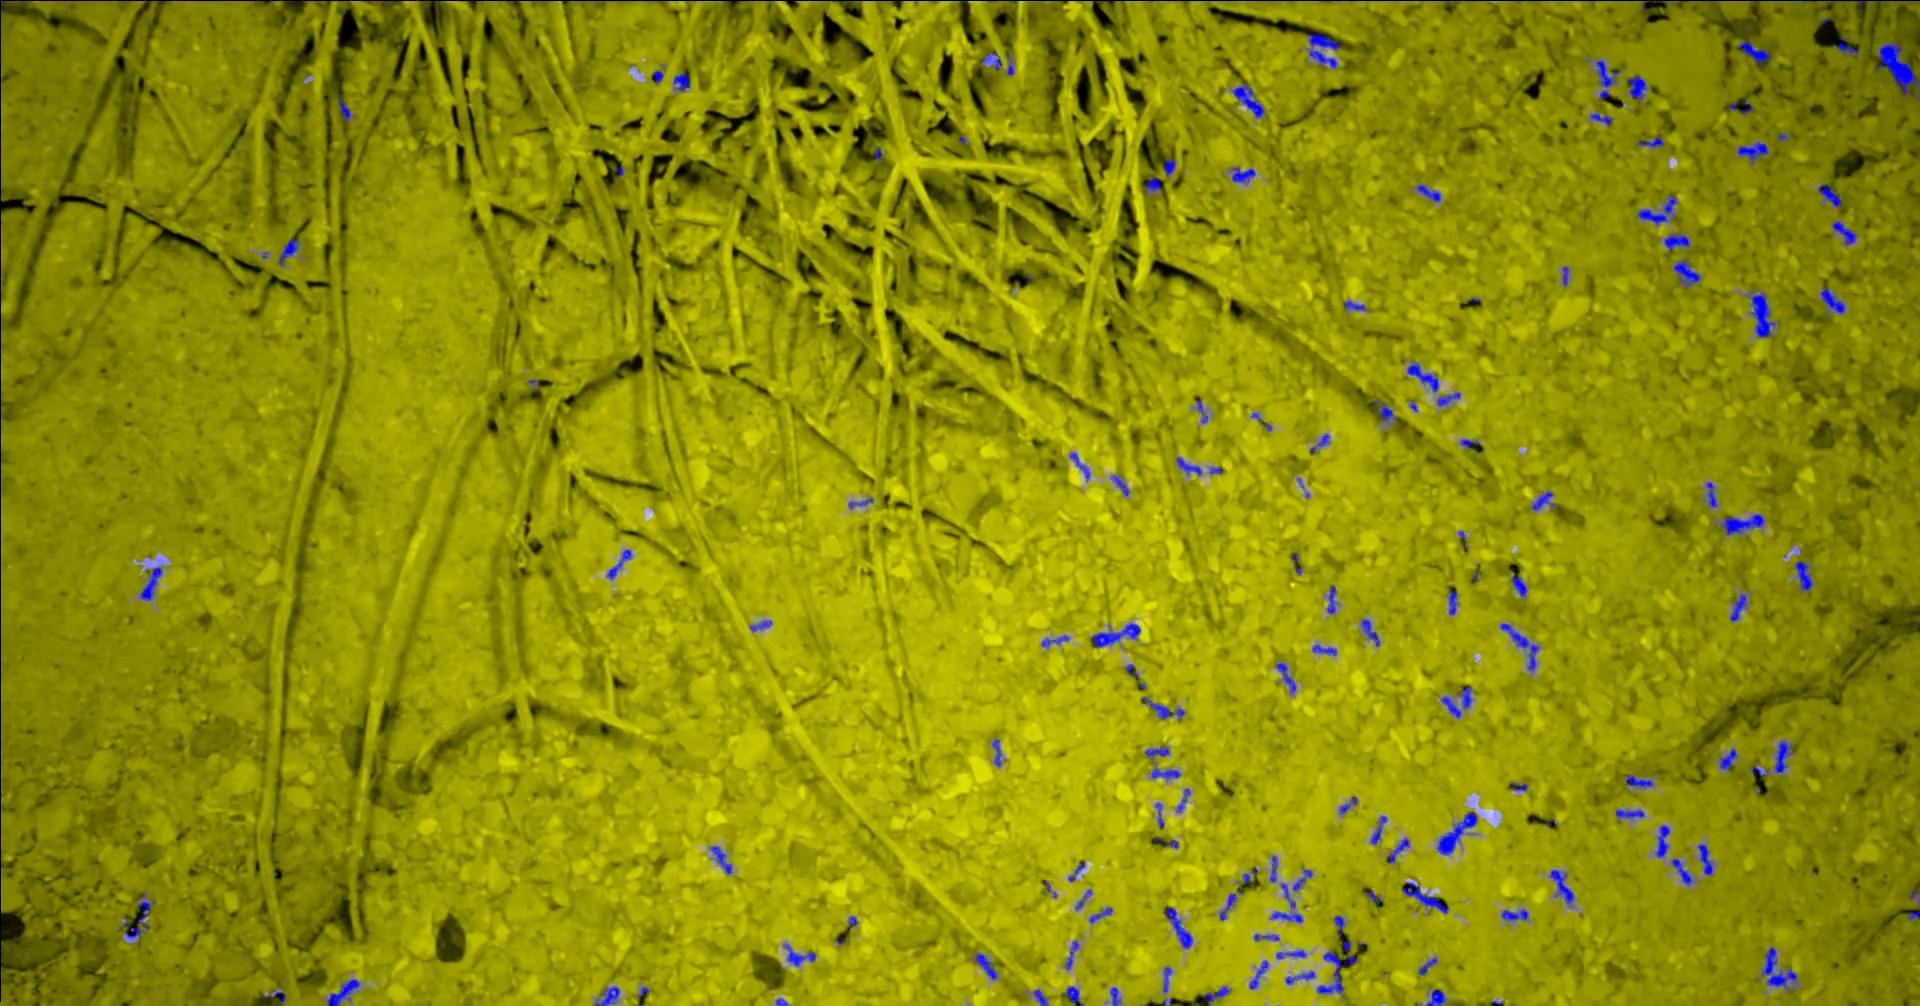ant: (1876, 41, 1919, 98), (1498, 622, 1538, 671), (1316, 951, 1357, 993), (1436, 812, 1477, 854), (119, 892, 154, 937), (1761, 946, 1796, 989), (1401, 882, 1448, 912), (1280, 869, 1312, 908), (1636, 194, 1676, 224), (1230, 83, 1263, 118), (1092, 622, 1140, 647), (1164, 907, 1192, 948), (1307, 32, 1338, 67), (1750, 293, 1775, 338), (1595, 58, 1620, 98), (1406, 361, 1437, 391), (1737, 39, 1770, 67), (1142, 696, 1183, 718), (1719, 513, 1764, 533), (1549, 869, 1575, 904), (1801, 0, 1919, 8), (326, 978, 359, 1005), (1672, 259, 1700, 287), (606, 549, 631, 579), (783, 942, 815, 967), (138, 567, 161, 600), (1638, 0, 1717, 9), (1773, 741, 1793, 774), (1737, 141, 1768, 163), (1820, 287, 1845, 312), (1275, 662, 1295, 694), (974, 951, 997, 979), (710, 845, 731, 874), (1817, 183, 1840, 210), (277, 238, 298, 265), (1068, 452, 1090, 480), (1248, 960, 1269, 989), (1831, 221, 1857, 244), (1385, 837, 1408, 862), (1671, 857, 1691, 885), (1625, 74, 1647, 99), (1794, 560, 1812, 591), (1371, 400, 1397, 420), (1175, 456, 1201, 475), (1204, 986, 1230, 1005), (1361, 619, 1379, 647), (1697, 843, 1712, 875), (593, 986, 618, 1005), (1441, 695, 1462, 718), (1730, 593, 1746, 621), (1655, 824, 1669, 857), (1663, 232, 1689, 250), (1219, 893, 1236, 920), (1530, 490, 1552, 511), (1835, 37, 1858, 56), (1416, 183, 1440, 201), (1370, 815, 1385, 843), (337, 91, 350, 121), (1064, 940, 1078, 969), (1285, 970, 1314, 984), (1624, 774, 1652, 788), (1309, 433, 1328, 453), (1719, 747, 1737, 768), (1194, 396, 1208, 423), (1230, 166, 1255, 182), (1436, 391, 1460, 406), (1088, 907, 1112, 922), (1270, 911, 1302, 922), (1064, 986, 1083, 1005), (1417, 956, 1437, 974), (1040, 634, 1068, 647), (1144, 746, 1170, 760), (1500, 908, 1528, 921), (1511, 573, 1526, 596), (1111, 475, 1128, 495), (1074, 889, 1091, 909), (1150, 767, 1180, 779), (1457, 685, 1470, 708), (672, 72, 690, 90), (982, 52, 1001, 69), (1338, 796, 1357, 813), (1425, 989, 1445, 1005), (1176, 788, 1189, 812), (1637, 136, 1663, 147), (1590, 112, 1611, 126), (1615, 808, 1644, 818), (1705, 481, 1717, 507), (1310, 644, 1336, 655), (848, 497, 872, 508), (1366, 890, 1383, 907), (1143, 177, 1161, 192), (1275, 949, 1305, 958), (990, 739, 1001, 765), (1327, 586, 1336, 614), (749, 620, 771, 631), (1448, 587, 1457, 614), (1269, 855, 1277, 882), (1242, 868, 1257, 883), (1032, 989, 1048, 1005), (1343, 300, 1365, 310), (1333, 915, 1343, 936), (1162, 967, 1171, 991), (1163, 159, 1175, 177), (1253, 934, 1279, 941), (1110, 986, 1120, 1005), (1124, 664, 1138, 677), (1459, 439, 1479, 447), (651, 70, 663, 83), (1509, 782, 1528, 790)
